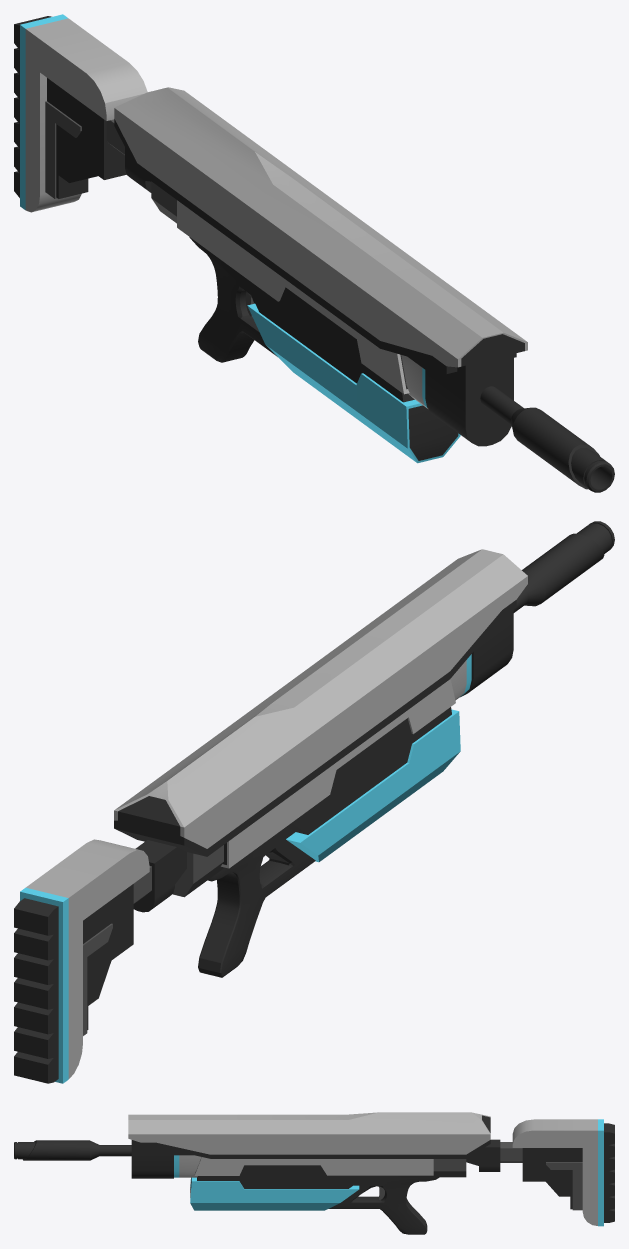
File: railgun.glb
3 views of the same model, one above another, from view 1: azimuth 30°, elevation 25°; view 2: azimuth 150°, elevation 25°; view 3: azimuth 270°, elevation 25° (orthographic). The views are drawn at different scales.
Visible parts, largest first — view 1: Cube.202; view 2: Cube.202; view 3: Cube.202.
Boxes of the visible parts, <box> form: Cube.202: <box>14,14,614,492</box>; Cube.202: <box>14,521,614,1083</box>; Cube.202: <box>14,1112,614,1234</box>.
Size of the model in its own units: 0.0816 by 0.2524 by 1.15.
